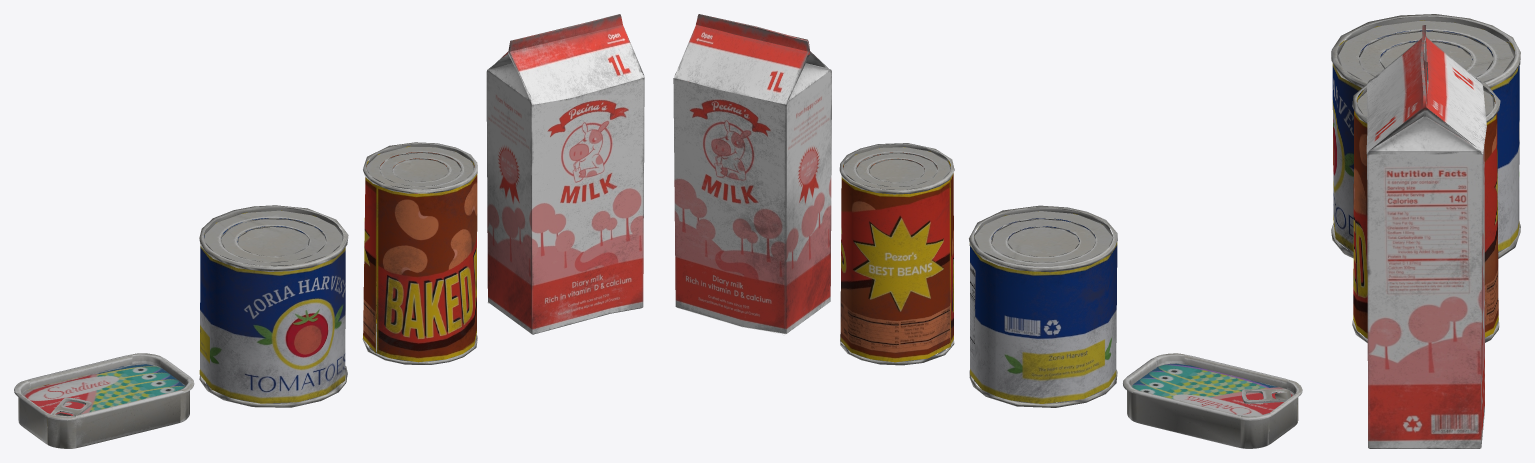
Rendered from fu_pantry.fbx.
3 renders of one model, left to right at view 1: azimuth 30°, elevation 25°; view 2: azimuth 150°, elevation 25°; view 3: azimuth 270°, elevation 25°, orthographic. The views are drawn at different scales.
Parts seen in each view (by area): view 1: fu_pantry_LOD0; view 2: fu_pantry_LOD0; view 3: fu_pantry_LOD0.
Part boxes in pixels (<box>): fu_pantry_LOD0: <box>14,14,644,448</box>; fu_pantry_LOD0: <box>673,14,1302,448</box>; fu_pantry_LOD0: <box>1331,14,1520,448</box>.
Size of what is drawn, in the model's own units: 0.524 by 0.2376 by 0.1139.
1 material, 1 textured.
